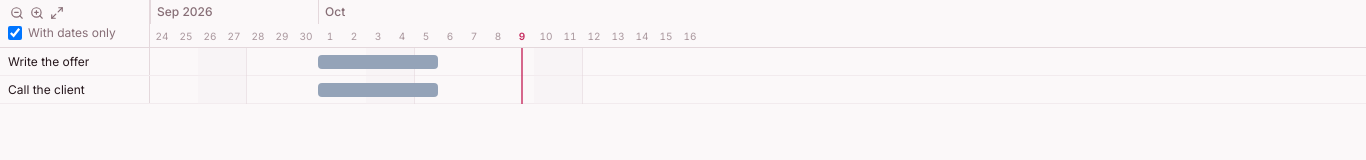
Test: renaming on the timeline › saves the new name on Enter
Double-click the element showing "Write the offer": (75, 62) [0,48,150,75]
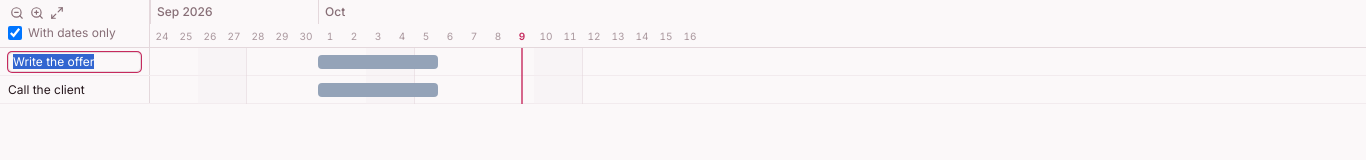
Replace the text in the field with "  Send the offer ": (74, 62) [8,52,141,72]
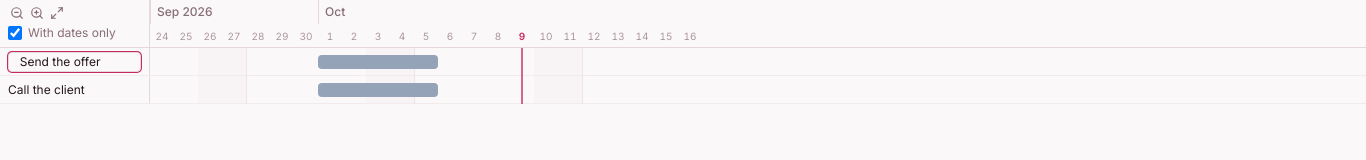
Press Enter in the field, box [8,52,141,72]
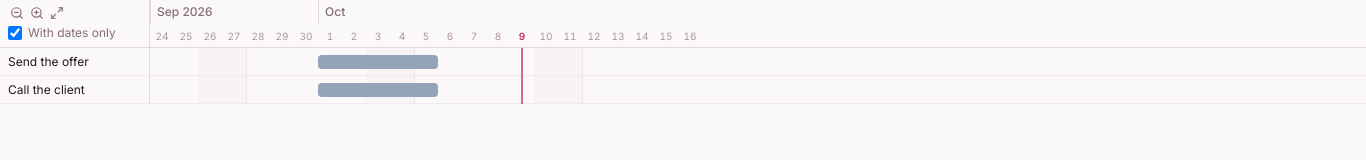
Now the text "Send the offer" is shown, box [8,54,89,70]
Now the field is gone
